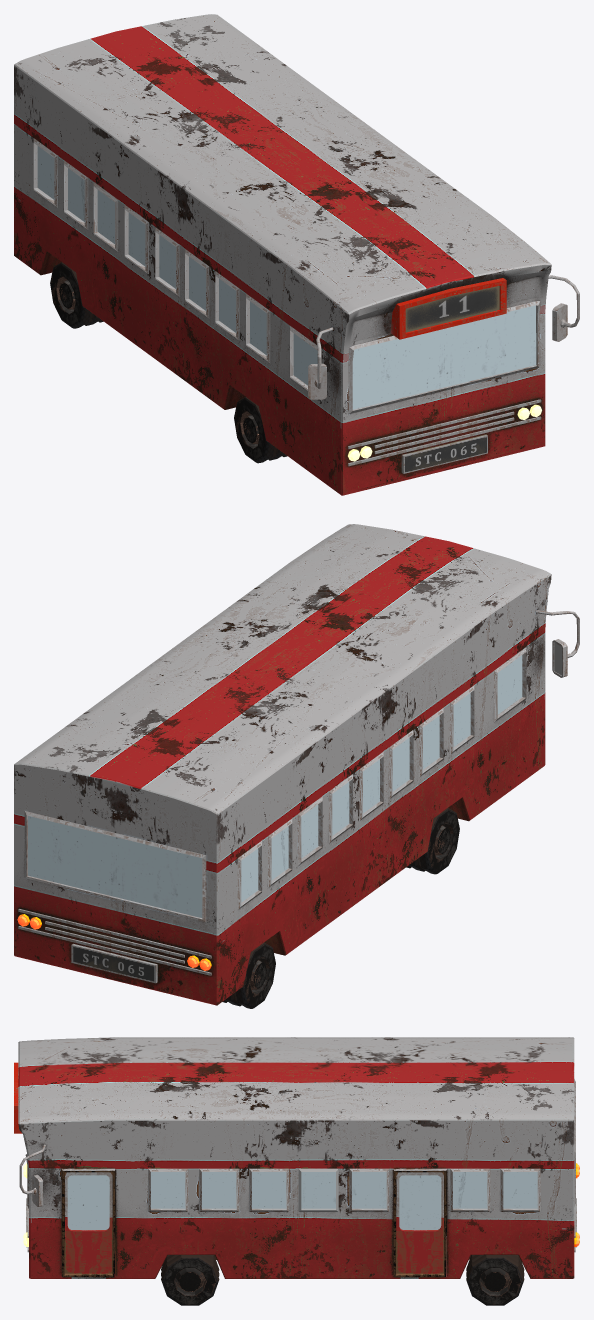
Rendered from Bus_Model_Textured_forUnity 2.fbx.
3 renders of one model, top to bottom at view 1: azimuth 30°, elevation 25°; view 2: azimuth 150°, elevation 25°; view 3: azimuth 270°, elevation 25°, orthographic. The views are drawn at different scales.
Parts seen in each view (by area): view 1: Exterior, Window, Window_frames, bus_name, Exterior_grills, Back_Right_Wheel, Front_Right_Wheel, side_mirror_right, side_mirror_left; view 2: Exterior, Window, Window_frames, Exterior_grills, Front_Right_Wheel, Back_Right_Wheel, side_mirror_right; view 3: Exterior, Window, Front_door, Back_door, Window_frames, Back_Left_Wheel, Front_Left_Wheel, side_mirror_left, bus_name.
Part boxes in pixels (x1,y1,x2,y2): Exterior: [14, 14, 551, 495]; Window: [37, 146, 536, 409]; Window_frames: [33, 138, 540, 413]; bus_name: [390, 278, 506, 339]; Exterior_grills: [348, 399, 541, 473]; Back_Right_Wheel: [50, 262, 103, 328]; Front_Right_Wheel: [234, 396, 287, 463]; side_mirror_right: [308, 327, 333, 399]; side_mirror_left: [548, 275, 579, 341]; Exterior: [14, 524, 551, 1005]; Window: [28, 655, 522, 917]; Window_frames: [24, 647, 526, 922]; Exterior_grills: [18, 909, 211, 983]; Front_Right_Wheel: [406, 808, 459, 874]; Back_Right_Wheel: [222, 942, 275, 1008]; side_mirror_right: [536, 610, 579, 677]; Exterior: [18, 1037, 574, 1278]; Window: [151, 1172, 537, 1208]; Front_door: [62, 1168, 115, 1276]; Back_door: [393, 1168, 446, 1276]; Window_frames: [25, 1079, 575, 1211]; Back_Left_Wheel: [466, 1255, 524, 1305]; Front_Left_Wheel: [161, 1255, 219, 1305]; side_mirror_left: [19, 1144, 45, 1206]; bus_name: [14, 1062, 21, 1133].
Size of the model in its own units: 432 by 372 by 975.
